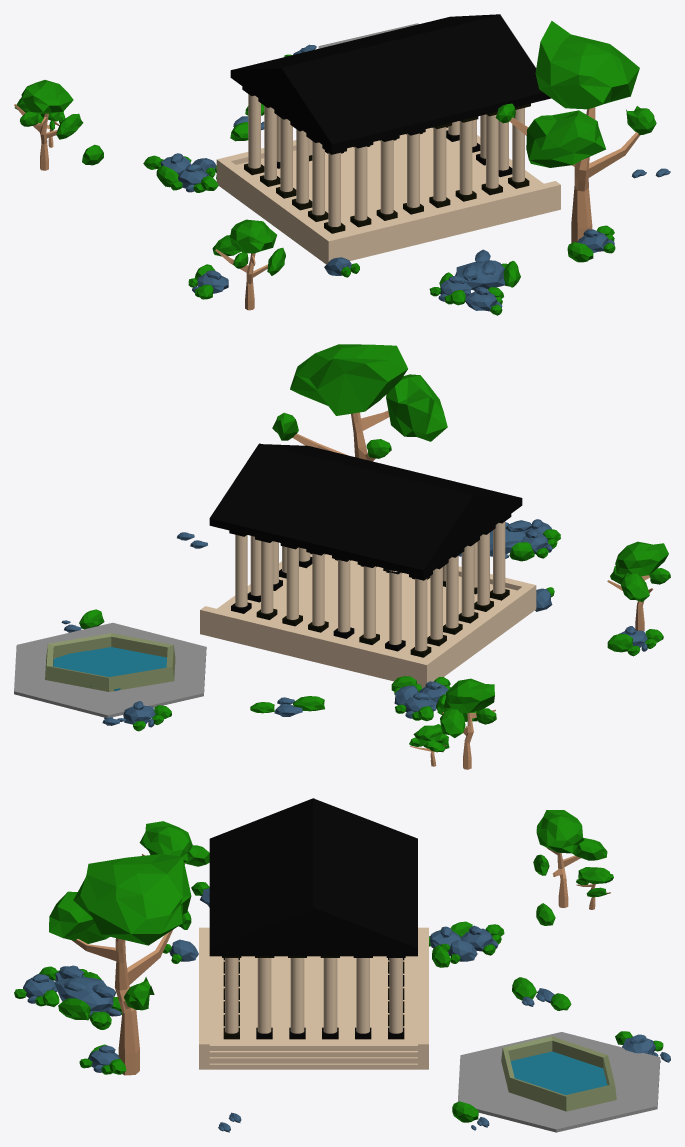
Rendered from Temple obsidienne.fbx.
3 views of the same model, one above another, from view 1: azimuth 30°, elevation 25°; view 2: azimuth 150°, elevation 25°; view 3: azimuth 270°, elevation 25° (orthographic). The views are drawn at different scales.
Parts seen in each view (by area): view 1: Cube.063; view 2: Cube.063; view 3: Cube.063.
Part boxes in pixels (box(x1,y1,x2,y2)): Cube.063: box(14, 14, 670, 315); Cube.063: box(14, 344, 670, 769); Cube.063: box(14, 798, 670, 1132).
Size of the model in its own units: 1267 by 513 by 1425.
